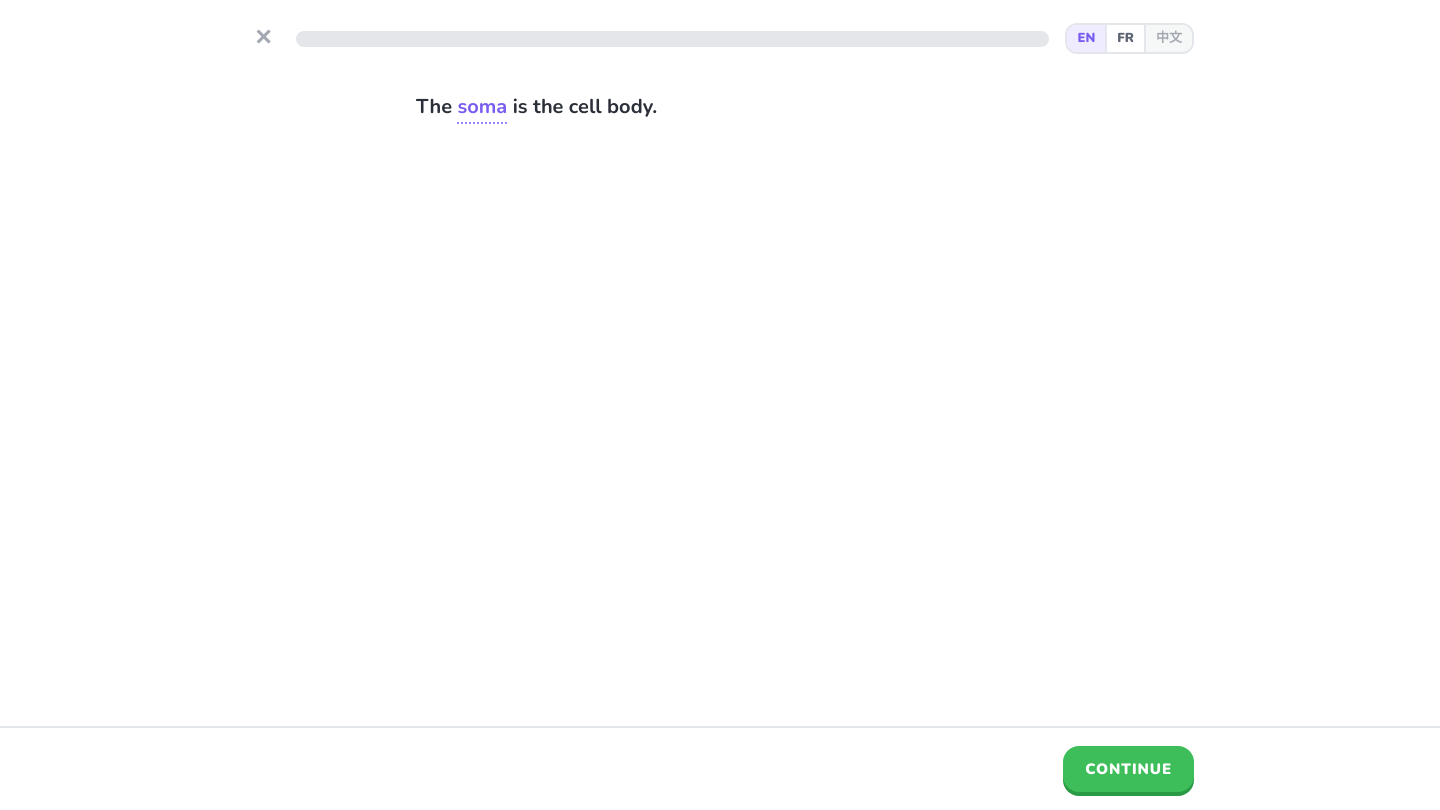
Test: switching language mid-question keeps the selection and the place (Review Focus 2)
Click the button "Continue": (1129, 769) [1063,746,1194,792]
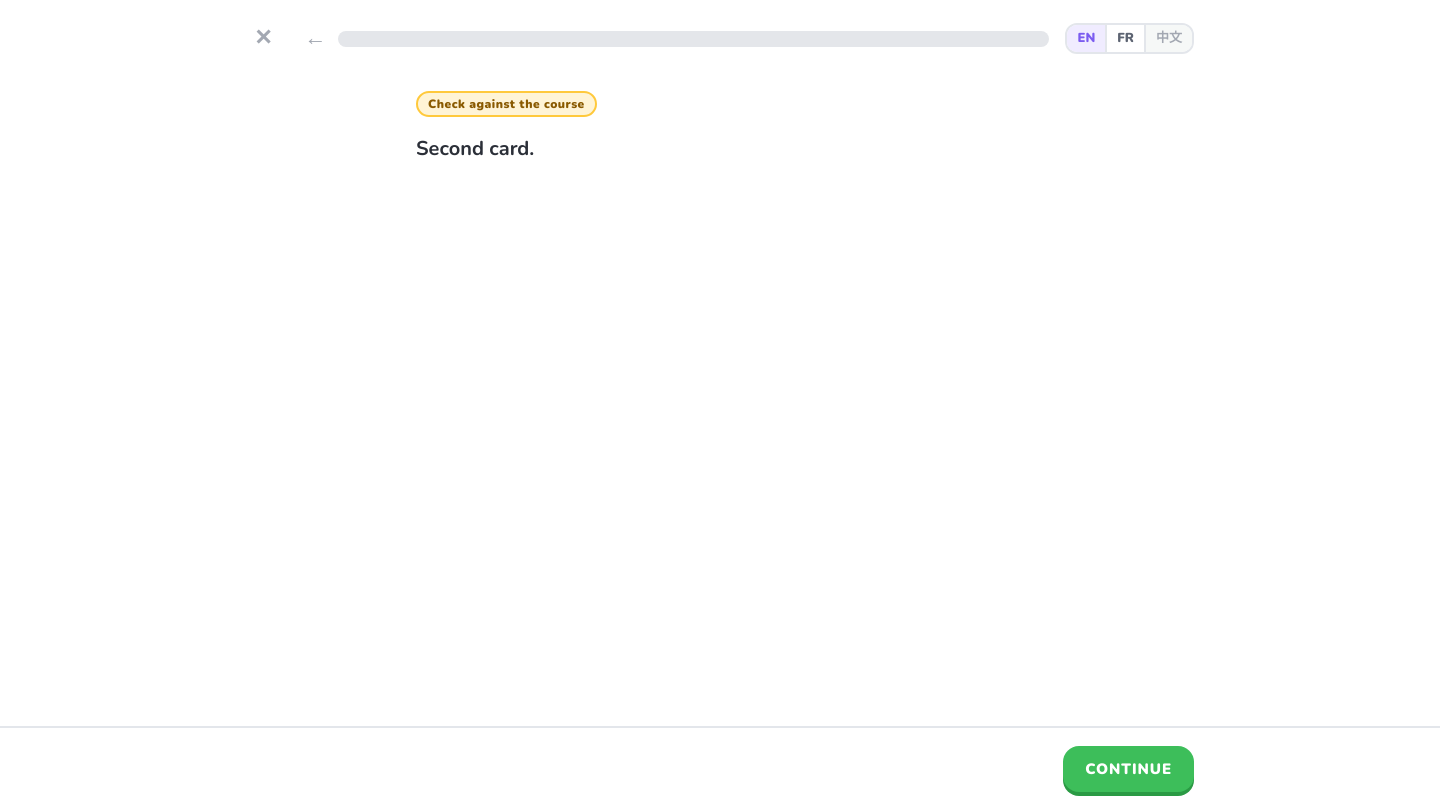
Click the button "Continue": (1129, 769) [1063,746,1194,792]
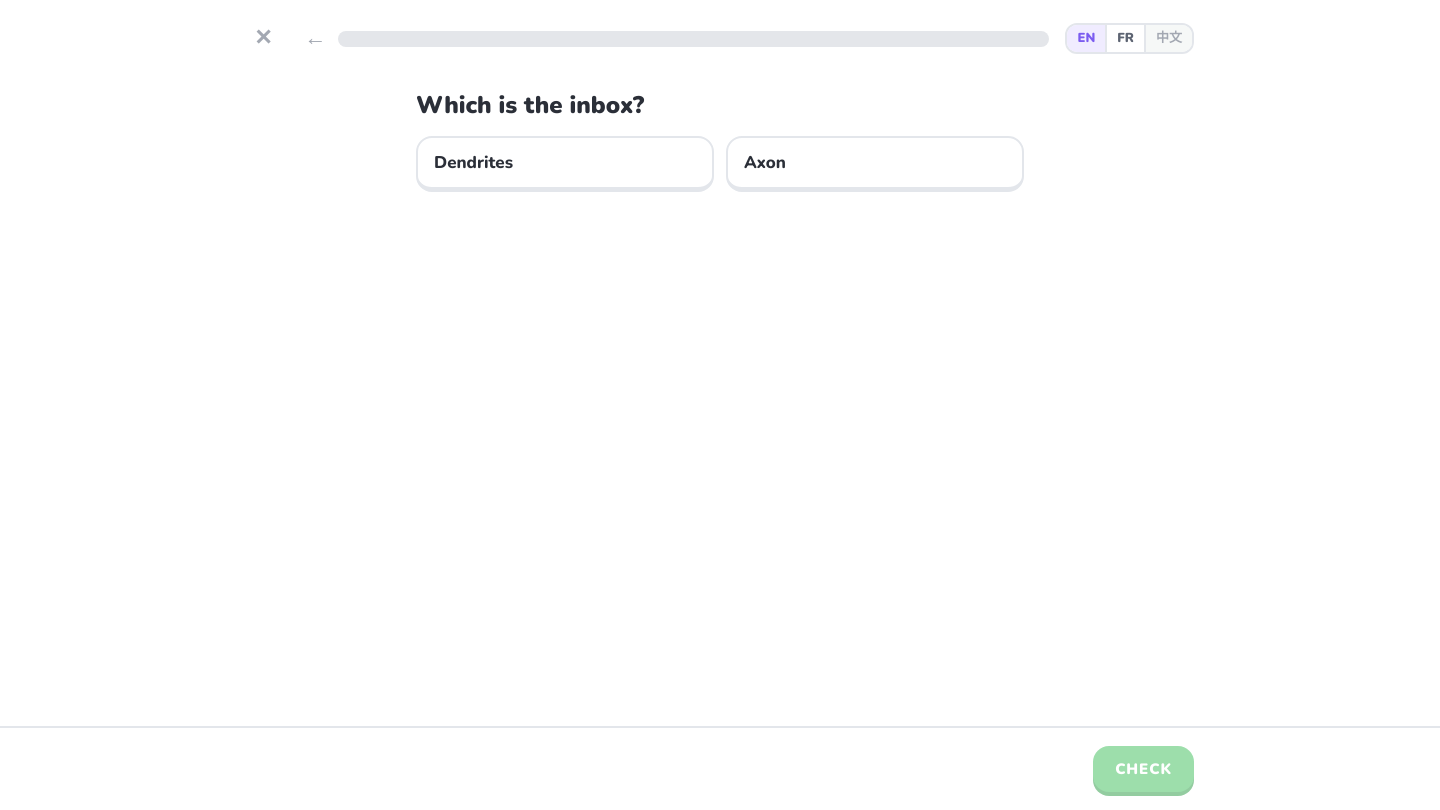
Click the button "Dendrites": (474, 162) [416,136,714,192]
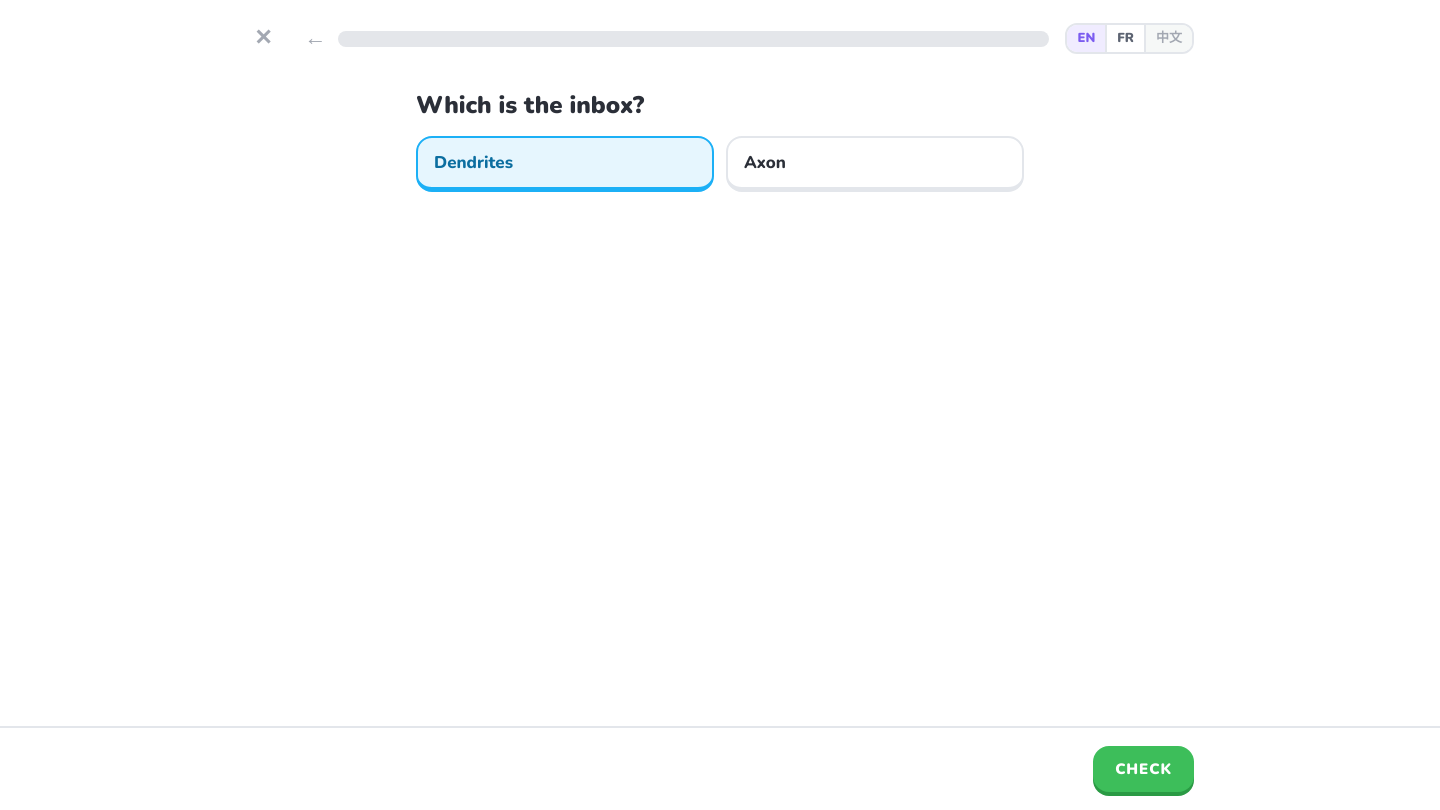
Expected: the button "Dendrites" is pressed, [416,136,714,192]
Click the button "FR": (1125, 39) [1105,25,1144,52]
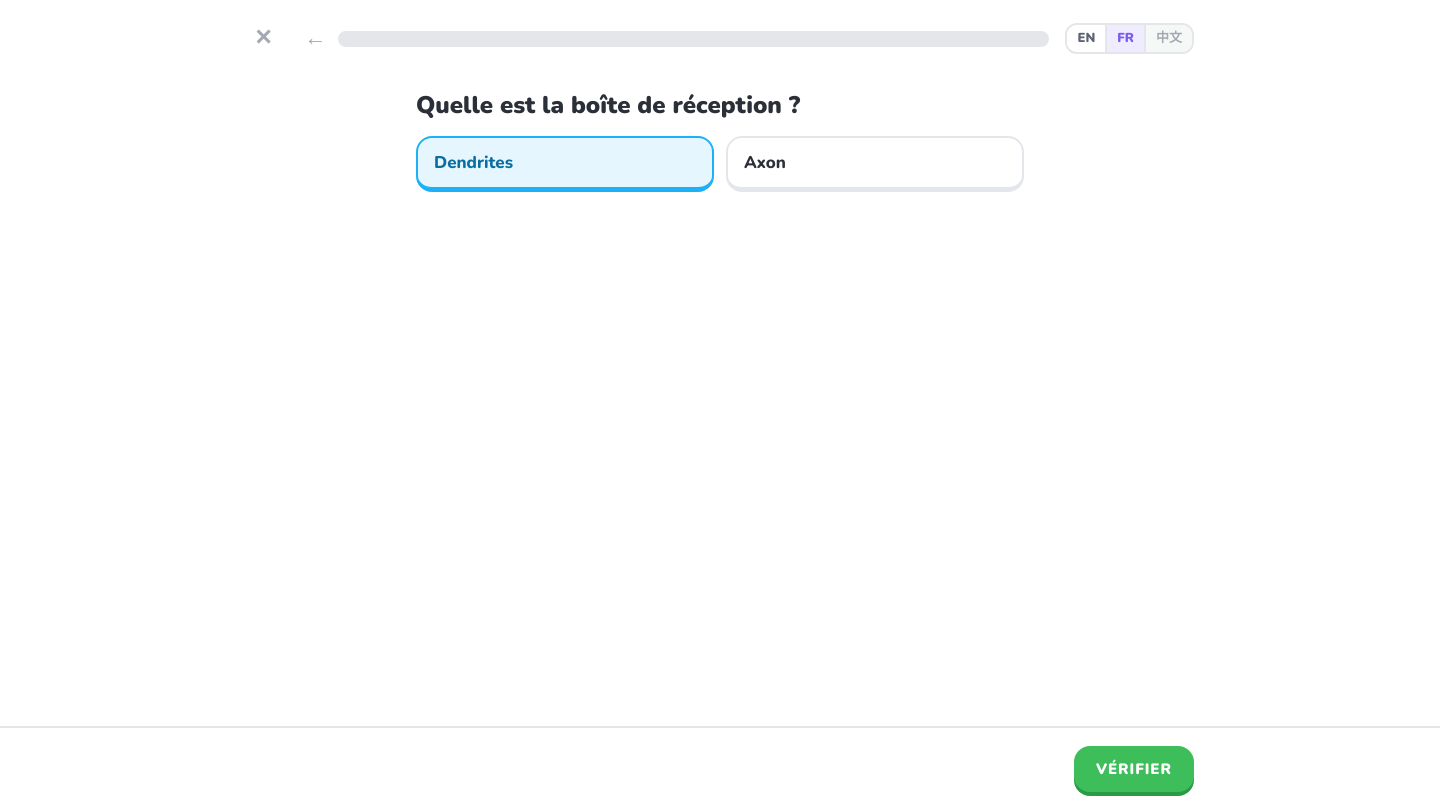
Expected: the heading "Quelle est la boîte de réception ?" is shown, [416,89,800,121]
